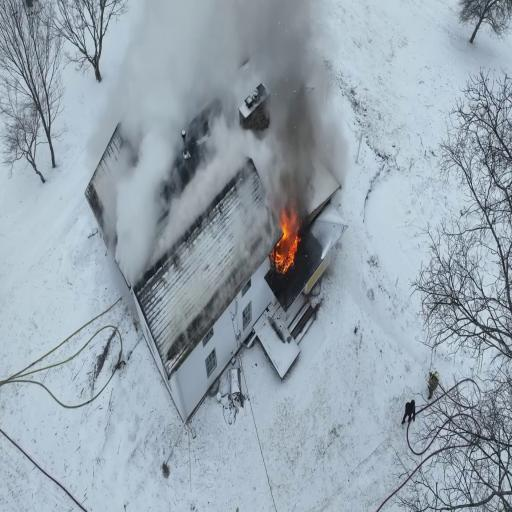fire: (273, 202, 303, 281)
smoke: (152, 8, 291, 90), (261, 11, 316, 202)
